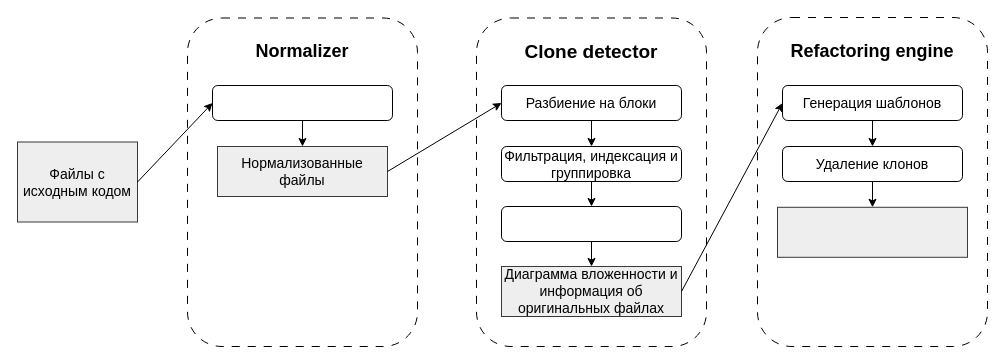
Some shapes in this 1005 by 364 pixel diagram are drawn without their labels. Each missing label, with the centre of its shape:
"Итоговые файлы с исходным кодом" belongs at (x=872, y=231).
"Построение диаграммы вложенности групп клонов" belongs at (x=591, y=224).
"Преобразования исходного кода" belongs at (x=302, y=102).
